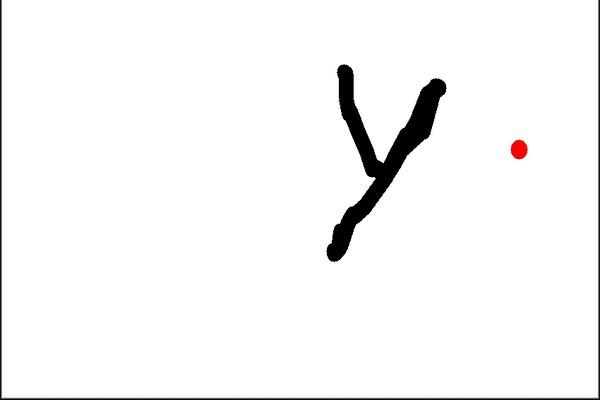Y: (309, 42, 463, 281)
